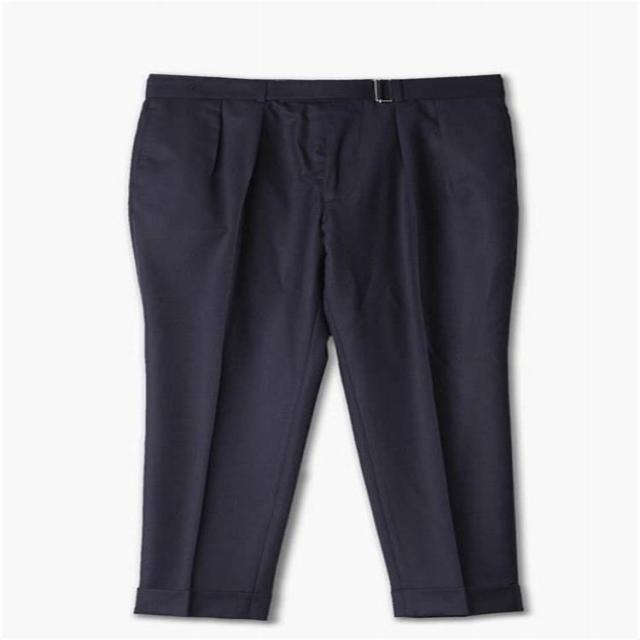long-pants: (123, 70, 522, 622)
